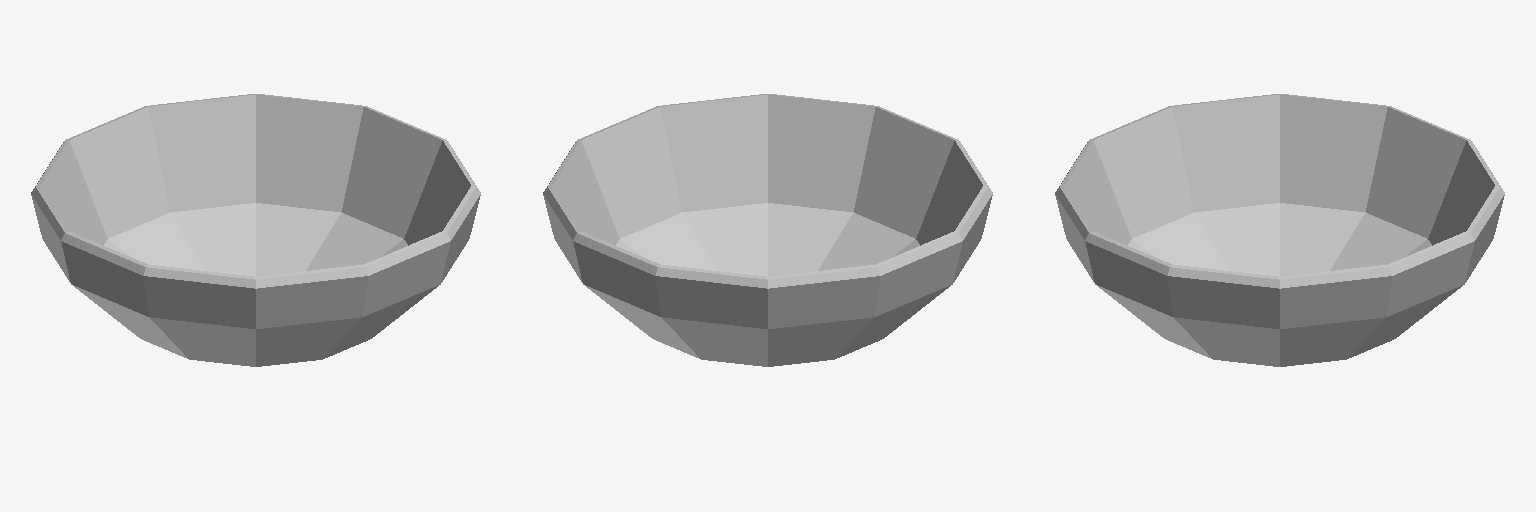
File: Pot02.obj
The picture shows the model from 3 angles: view 1: azimuth 30°, elevation 25°; view 2: azimuth 150°, elevation 25°; view 3: azimuth 270°, elevation 25°; orthographic projection.
Visible parts, largest first — view 1: Sphere001; view 2: Sphere001; view 3: Sphere001.
Part boxes in pixels (x1,y1,x2,y2): Sphere001: (31, 94, 480, 366); Sphere001: (543, 94, 992, 366); Sphere001: (1055, 94, 1504, 366).
Size of the model in its own units: 1.73 by 0.5973 by 1.73.